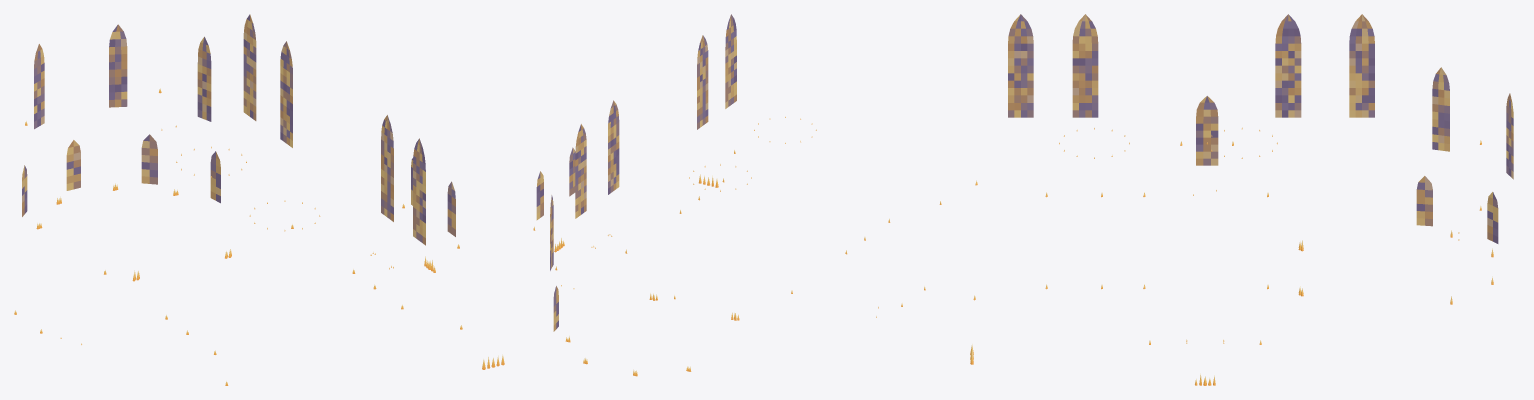
Rendered from castle_rooms_glow.glb.
3 views of the same model, side by side, from view 1: azimuth 30°, elevation 25°; view 2: azimuth 150°, elevation 25°; view 3: azimuth 270°, elevation 25° (orthographic). The views are drawn at different scales.
Visible parts, largest first — view 1: castle_rooms_glow; view 2: castle_rooms_glow; view 3: castle_rooms_glow.
Boxes of the visible parts, bbox=[...] form: castle_rooms_glow: bbox=[14, 14, 504, 385]; castle_rooms_glow: bbox=[533, 14, 941, 376]; castle_rooms_glow: bbox=[970, 14, 1513, 385].
Size of the model in its own units: 25.64 by 13.44 by 29.8.
Materials: 1 (1 with a texture image).
